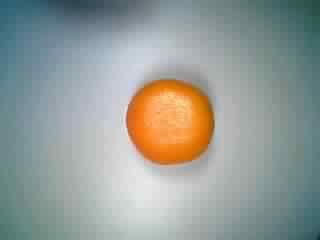orange: (123, 71, 218, 165)
